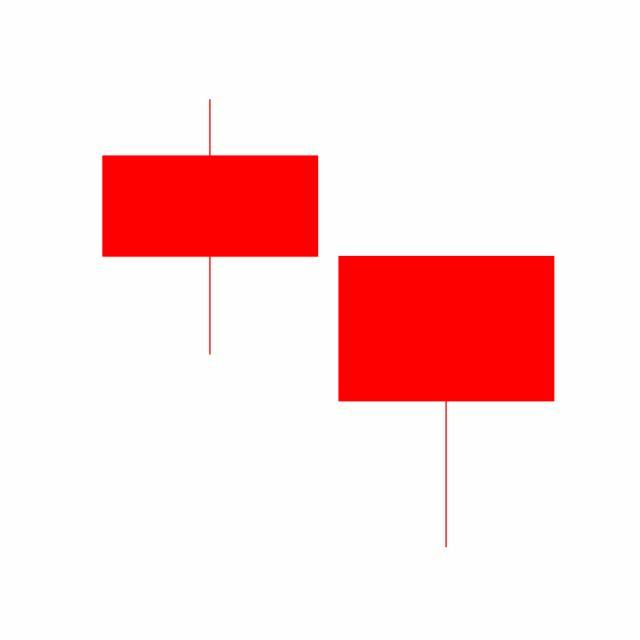Hammer: (328, 253, 566, 552)
